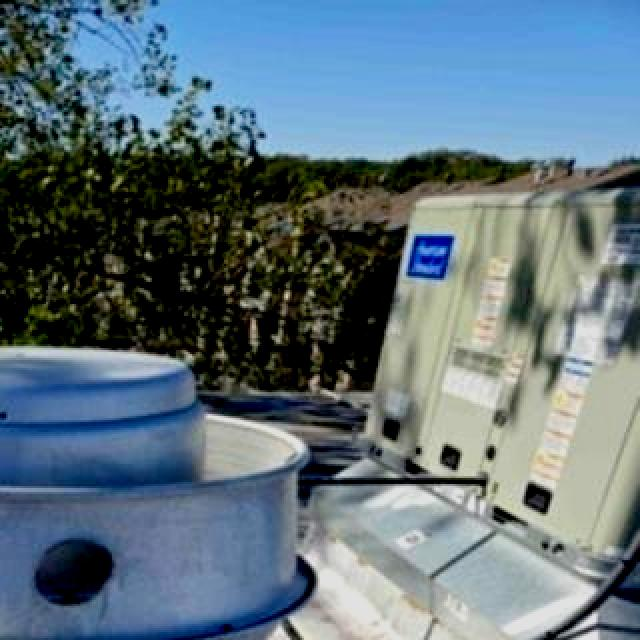GRAVITY-VENT: (0, 332, 324, 640)
RTU: (366, 178, 640, 588)
